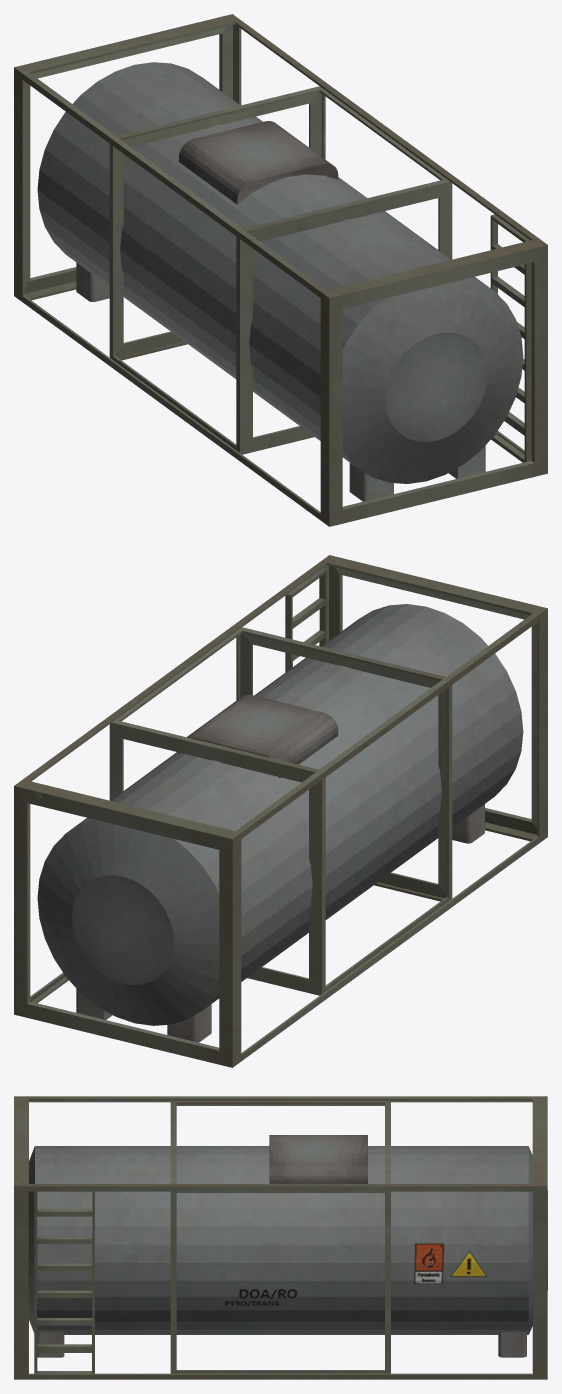
The model's file is oiltank.fbx.
3 renders of one model, top to bottom at view 1: azimuth 30°, elevation 25°; view 2: azimuth 150°, elevation 25°; view 3: azimuth 270°, elevation 25°, orthographic. The views are drawn at different scales.
Visible parts, largest first — view 1: Cylinder; view 2: Cylinder; view 3: Cylinder.
Boxes of the visible parts, x1=… form: Cylinder: x1=14, y1=14, x2=547, y2=526; Cylinder: x1=14, y1=555, x2=547, y2=1067; Cylinder: x1=14, y1=1096, x2=547, y2=1379.
Bounding box in the file's own units: 225 × 225 × 564.
